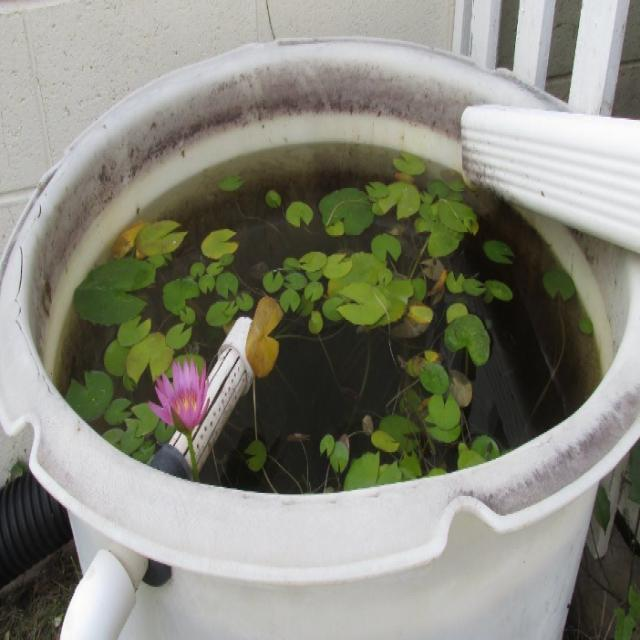Breeding Place: (1, 49, 640, 537)
